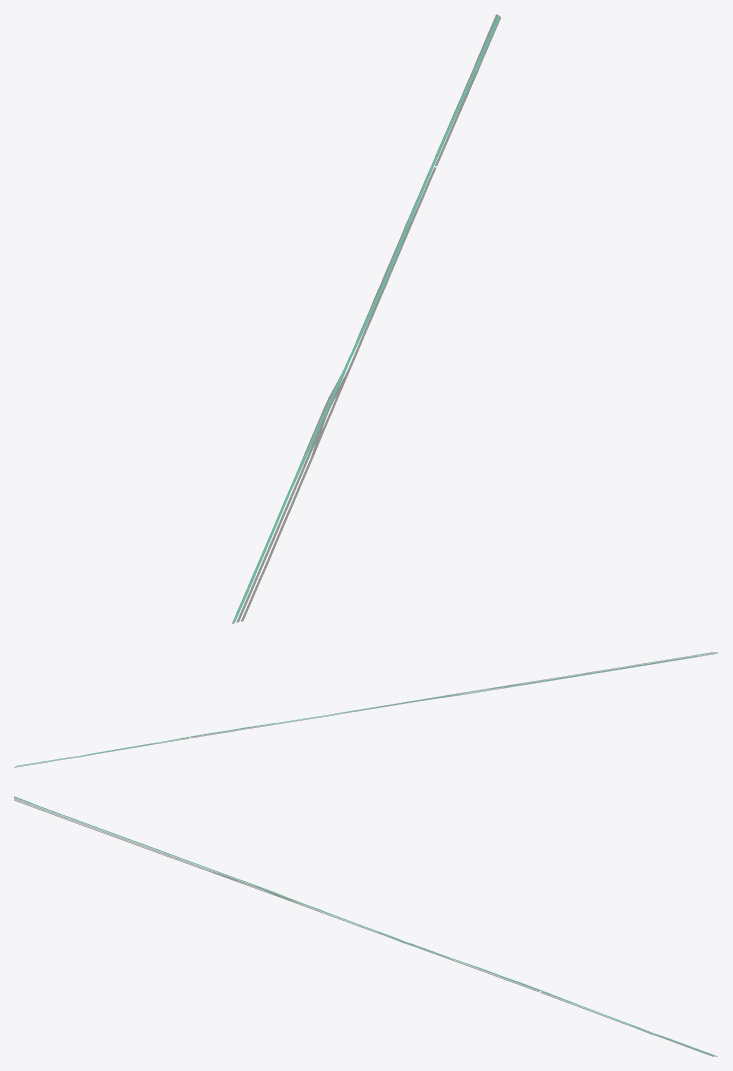
Rendered from downtown-go-go.glb.
3 views of the same model, one above another, from view 1: azimuth 30°, elevation 25°; view 2: azimuth 150°, elevation 25°; view 3: azimuth 270°, elevation 25° (orthographic). The views are drawn at different scales.
Visible parts, largest first — view 1: service-guide-go-MI-0, city-railway-1061957-0; view 2: service-guide-go-MI-0, city-railway-1061958-0, city-railway-1061957-0, city-railway-1061953-0; view 3: service-guide-go-MI-0, city-railway-1061957-0, city-railway-1061958-0.
Boxes of the visible parts, x1,y1,x2,y2 form: service-guide-go-MI-0: [232, 15, 500, 621]; city-railway-1061957-0: [275, 167, 436, 541]; service-guide-go-MI-0: [15, 652, 717, 766]; city-railway-1061958-0: [191, 668, 621, 738]; city-railway-1061957-0: [191, 667, 621, 737]; city-railway-1061953-0: [418, 669, 621, 701]; service-guide-go-MI-0: [14, 796, 715, 1056]; city-railway-1061957-0: [106, 833, 538, 991]; city-railway-1061958-0: [108, 833, 539, 991].
Size of the model in its own units: 1048 by 18.38 by 1241.
